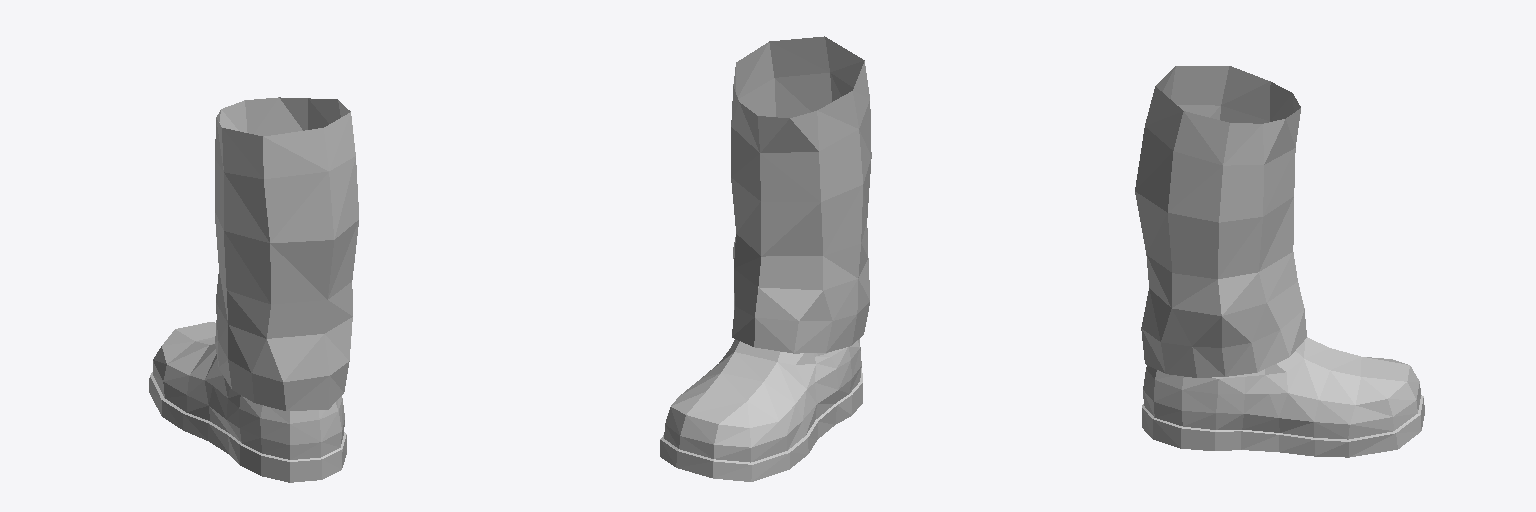
The model's file is zDerOak.obj.
The picture shows the model from 3 angles: view 1: azimuth 30°, elevation 25°; view 2: azimuth 150°, elevation 25°; view 3: azimuth 270°, elevation 25°; orthographic projection.
Visible parts, largest first — view 1: RLeg, RFoot, RToe; view 2: RLeg, RToe, RFoot; view 3: RLeg, RFoot, RToe.
Part boxes in pixels (left/top/right/bottom): RLeg: left=215, top=97, right=358, bottom=402; RFoot: left=183, top=320, right=349, bottom=482; RToe: left=149, top=322, right=215, bottom=429; RLeg: left=731, top=36, right=871, bottom=351; RToe: left=660, top=373, right=808, bottom=481; RFoot: left=701, top=304, right=869, bottom=452; RLeg: left=1135, top=66, right=1304, bottom=376; RFoot: left=1141, top=309, right=1329, bottom=456; RToe: left=1314, top=348, right=1424, bottom=457.
Bounding box in the file's own units: 14.03 × 36.27 × 27.63.